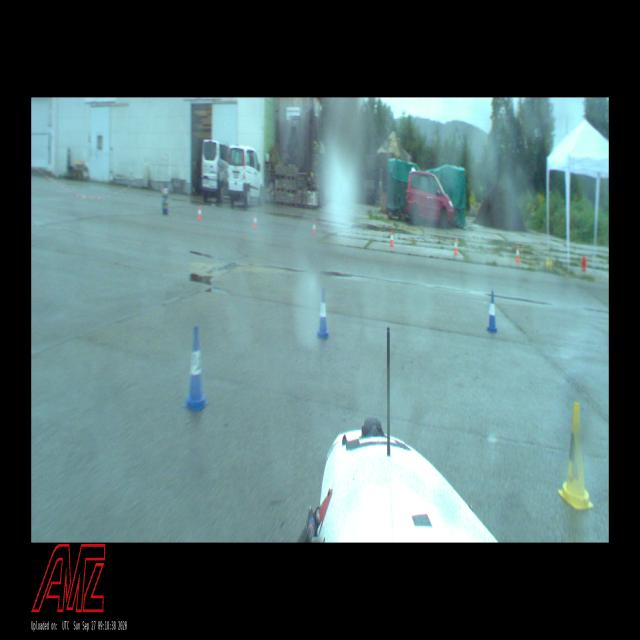blue_cone: (187, 326, 206, 408), (317, 288, 329, 338), (487, 292, 497, 332)
orange_cone: (515, 246, 520, 264), (581, 256, 587, 271), (389, 230, 394, 247), (454, 238, 458, 255), (198, 207, 202, 220), (313, 220, 316, 236), (254, 214, 257, 229)
yellow_cone: (562, 402, 589, 509), (549, 258, 553, 267), (545, 258, 549, 266)
